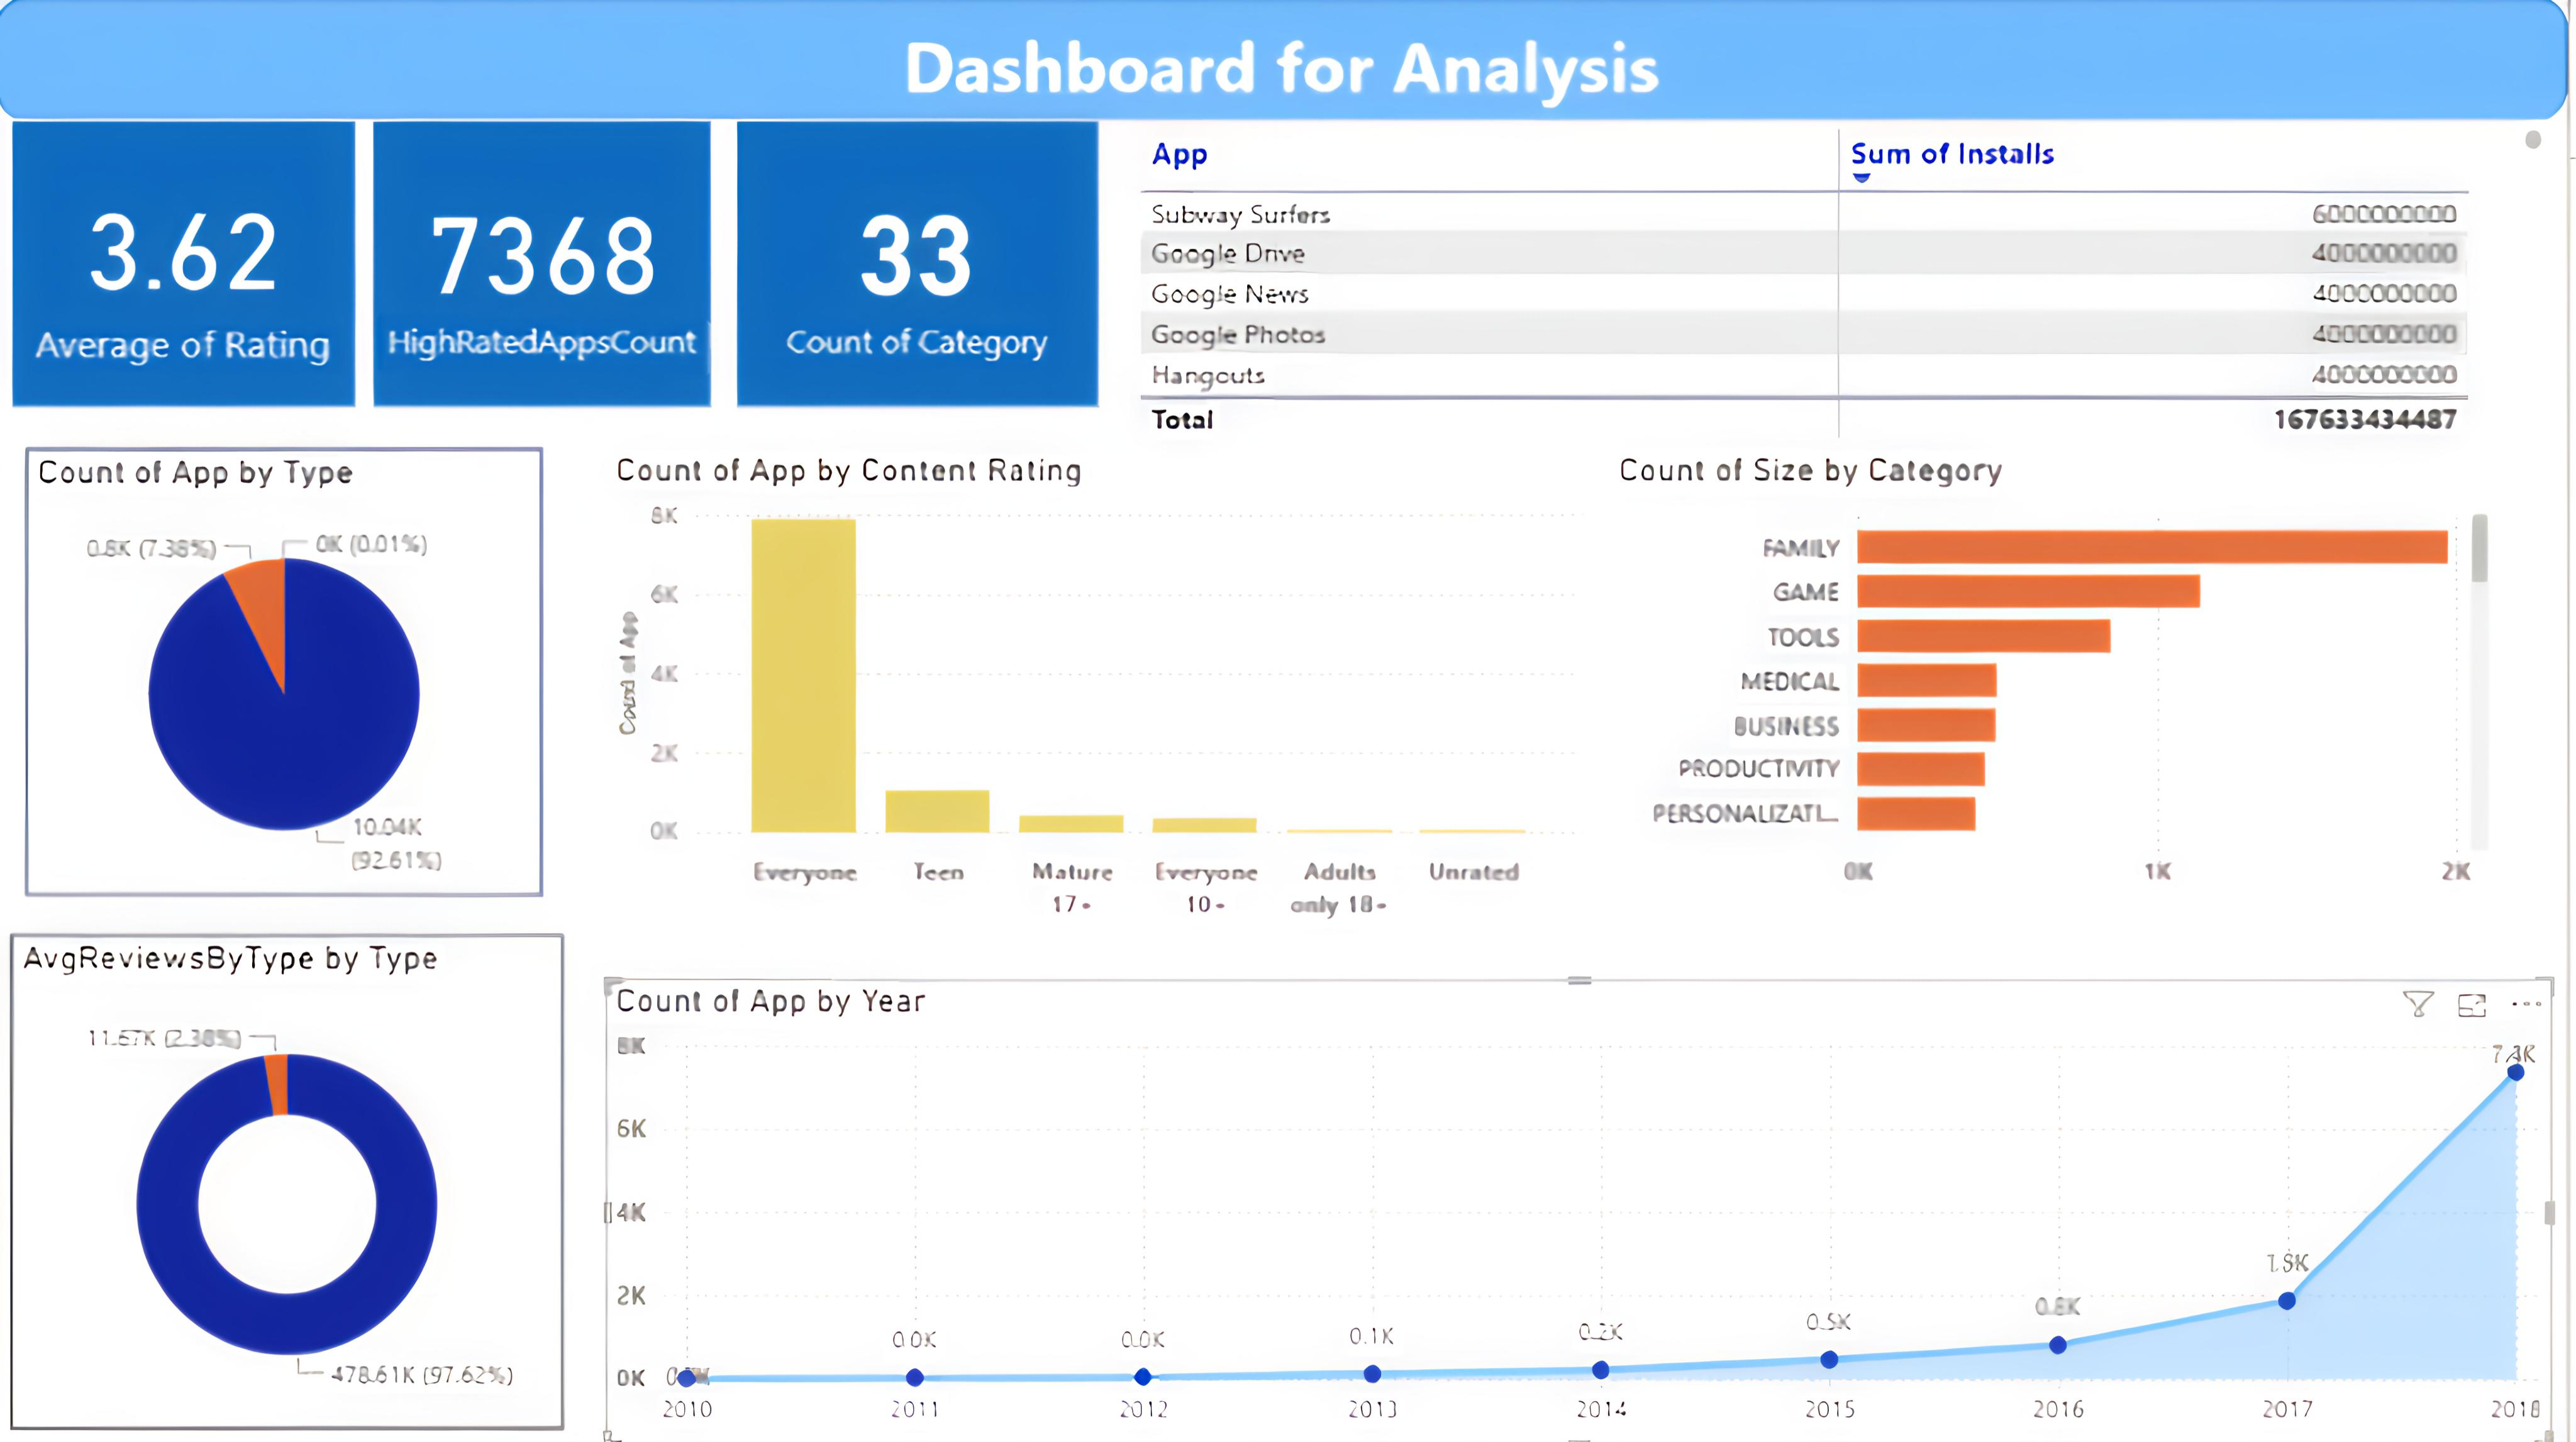

Layout of this report page (visuals, bound fields, positions):
{"tool":"powerbi","page":{"name":"Dashboard","canvas":[1280,720],"ordinal":0},"visuals":[{"type":"card","fields":{"Values":["Avg(googleplaystore.Rating)"]},"box":[7.8,60.3,172.2,143],"z":0},{"type":"card","fields":{"Values":["Count(googleplaystore.Category)"]},"box":[368.6,60.3,180.9,143],"z":1000},{"type":"pieChart","fields":{"Series":["googleplaystore.Type"],"Y":["CountNonNull(googleplaystore.App)"]},"box":[15.4,224.1,256.8,222.1],"z":2000},{"type":"columnChart","fields":{"Category":["googleplaystore.Content Rating"],"Y":["Count(googleplaystore.App)"]},"box":[303.9,224.1,490.5,241.4],"z":3000},{"type":"tableEx","fields":{"Values":["googleplaystore.App","Sum(googleplaystore.Installs)","select"]},"box":[564.5,60.6,707.8,163.5],"z":4000},{"type":"card","fields":{"Values":["googleplaystore.HighRatedAppsCount"]},"box":[187.7,60.3,169.2,143],"z":5000},{"type":"donutChart","fields":{"Category":["googleplaystore.Type"],"Y":["googleplaystore.AvgReviewsByType"]},"box":[7.7,465.5,275,246.2],"z":6000},{"type":"barChart","fields":{"Category":["googleplaystore.Category"],"Y":["CountNonNull(googleplaystore.Size)"]},"box":[803,224.1,442.4,228.9],"z":7000},{"type":"lineChart","fields":{"Category":["googleplaystore.Last Updated.Variation.Date Hierarchy.Year"],"Y":["CountNonNull(googleplaystore.App)"]},"box":[303.9,487.6,968.4,232.7],"z":8000},{"type":"shape","box":[0,0,1280,60.3],"z":9000}]}

Visuals, with their boxes in screenshot pixels (x1, y1, x2, y2), scaled from the page's 1280x720 canvas onto the 2576x1442 screenshot:
card - Avg(googleplaystore.Rating): bbox(16, 121, 362, 407)
card - Count(googleplaystore.Category): bbox(742, 121, 1106, 407)
pieChart - googleplaystore.Type x CountNonNull(googleplaystore.App): bbox(31, 449, 548, 894)
columnChart - googleplaystore.Content Rating x Count(googleplaystore.App): bbox(611, 449, 1599, 932)
tableEx - googleplaystore.App x Sum(googleplaystore.Installs): bbox(1136, 121, 2560, 449)
card - googleplaystore.HighRatedAppsCount: bbox(378, 121, 718, 407)
donutChart - googleplaystore.Type x googleplaystore.AvgReviewsByType: bbox(16, 932, 569, 1426)
barChart - googleplaystore.Category x CountNonNull(googleplaystore.Size): bbox(1616, 449, 2506, 907)
lineChart - googleplaystore.Last Updated.Variation.Date Hierarchy.Year x CountNonNull(googleplaystore.App): bbox(611, 977, 2560, 1441)
shape: bbox(0, 0, 2575, 121)
